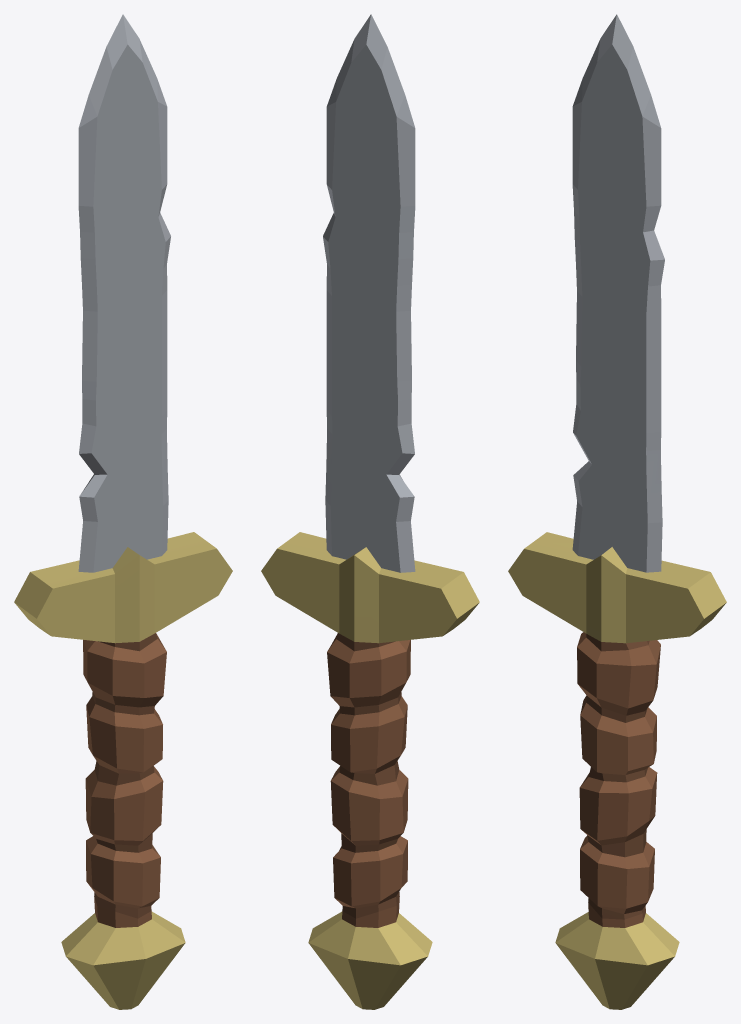
Rendered from knife_0110.glb.
The picture shows the model from 3 angles, left to right: view 1: azimuth 30°, elevation 25°; view 2: azimuth 150°, elevation 25°; view 3: azimuth 330°, elevation 25°; orthographic projection.
Visible parts, largest first — view 1: Knife_0110; view 2: Knife_0110; view 3: Knife_0110.
Part boxes in pixels (x1,y1,x2,y2): Knife_0110: (14,14,232,1009); Knife_0110: (261,14,479,1009); Knife_0110: (508,14,726,1009).
Size of the model in its own units: 0.644 by 3.11 by 0.2564.
